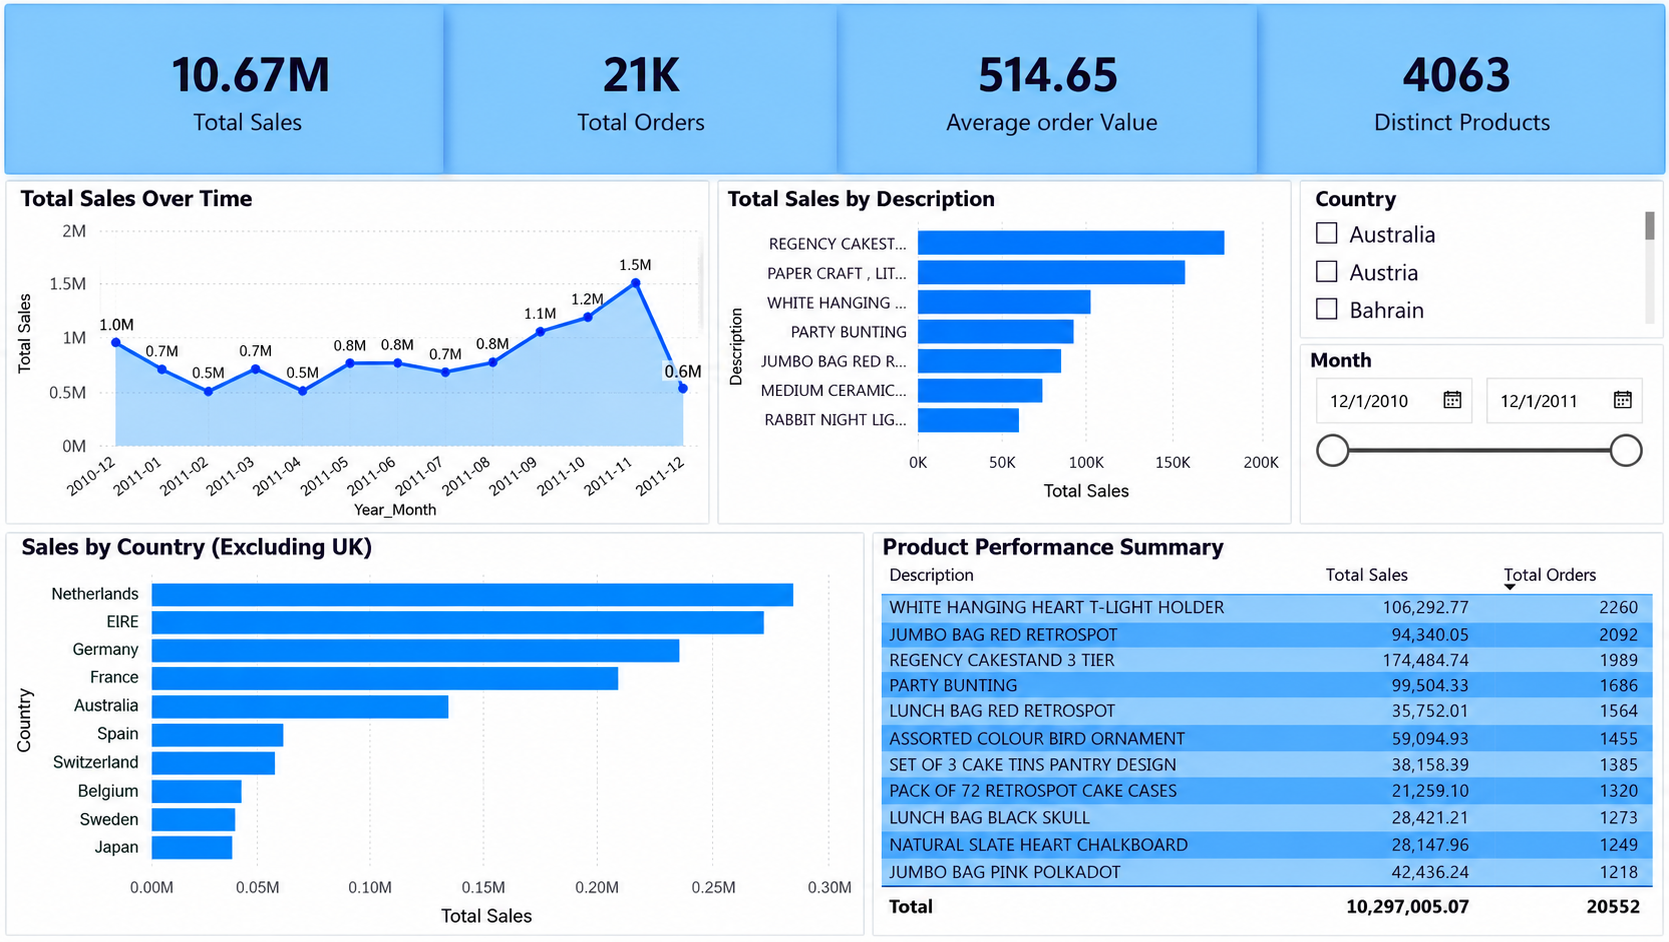

The dashboard page shown, as its layout file describes it:
{"tool":"powerbi","page":{"name":"Bussiness_Performance_Dashboard","canvas":[1280,720],"ordinal":0},"visuals":[{"type":"card","fields":{"Values":["Table1.Total Sales"]},"box":[0,0,342.9,135.7],"z":0},{"type":"card","fields":{"Values":["Table1.Total Orders"]},"box":[342.9,0,318.6,137.1],"z":1000},{"type":"card","fields":{"Values":["Table1.Average order Value"]},"box":[661.4,0,330,135.7],"z":2000},{"type":"card","fields":{"Values":["Table1.Products Sold"]},"box":[991.4,1.4,288.6,135.7],"z":3000},{"type":"lineChart","title":"Total Sales Over Time","fields":{"Category":["Table1.Month.Variation.Date Hierarchy.Month"],"Y":["Table1.Total Sales"]},"box":[0,137.1,502.9,228.6],"z":4000},{"type":"clusteredBarChart","fields":{"Category":["Table1.Description"],"Y":["Table1.Total Sales"]},"box":[502.9,137.1,488.6,230],"z":5000},{"type":"clusteredBarChart","title":"Sales by Country (Excluding UK)","fields":{"Category":["Table1.Country"],"Y":["Table1.Total Sales"]},"box":[0,367.1,672.9,352.9],"z":6000},{"type":"tableEx","title":"Product Performance Summary","fields":{"Values":["Table1.Description","Table1.Total Sales","Table1.Total Orders"]},"box":[672.9,367.1,607.1,352.9],"z":7000},{"type":"slicer","fields":{"Values":["Table1.Month"]},"box":[991.4,255.7,288.6,111.4],"z":8000},{"type":"slicer","fields":{"Values":["Table1.Country"]},"box":[991.4,137.1,288.6,118.6],"z":9000}]}

Visuals, with their boxes in screenshot pixels (x1, y1, x2, y2), scaled from the page's 1280x720 canvas onto the 1669x942 screenshot:
card - Table1.Total Sales: {"left": 0, "top": 0, "right": 447, "bottom": 178}
card - Table1.Total Orders: {"left": 447, "top": 0, "right": 863, "bottom": 179}
card - Table1.Average order Value: {"left": 862, "top": 0, "right": 1293, "bottom": 178}
card - Table1.Products Sold: {"left": 1293, "top": 2, "right": 1668, "bottom": 179}
"Total Sales Over Time" lineChart: {"left": 0, "top": 179, "right": 656, "bottom": 478}
clusteredBarChart - Table1.Description x Table1.Total Sales: {"left": 656, "top": 179, "right": 1293, "bottom": 480}
"Sales by Country (Excluding UK)" clusteredBarChart: {"left": 0, "top": 480, "right": 877, "bottom": 941}
"Product Performance Summary" tableEx: {"left": 877, "top": 480, "right": 1668, "bottom": 941}
slicer - Table1.Month: {"left": 1293, "top": 335, "right": 1668, "bottom": 480}
slicer - Table1.Country: {"left": 1293, "top": 179, "right": 1668, "bottom": 335}
